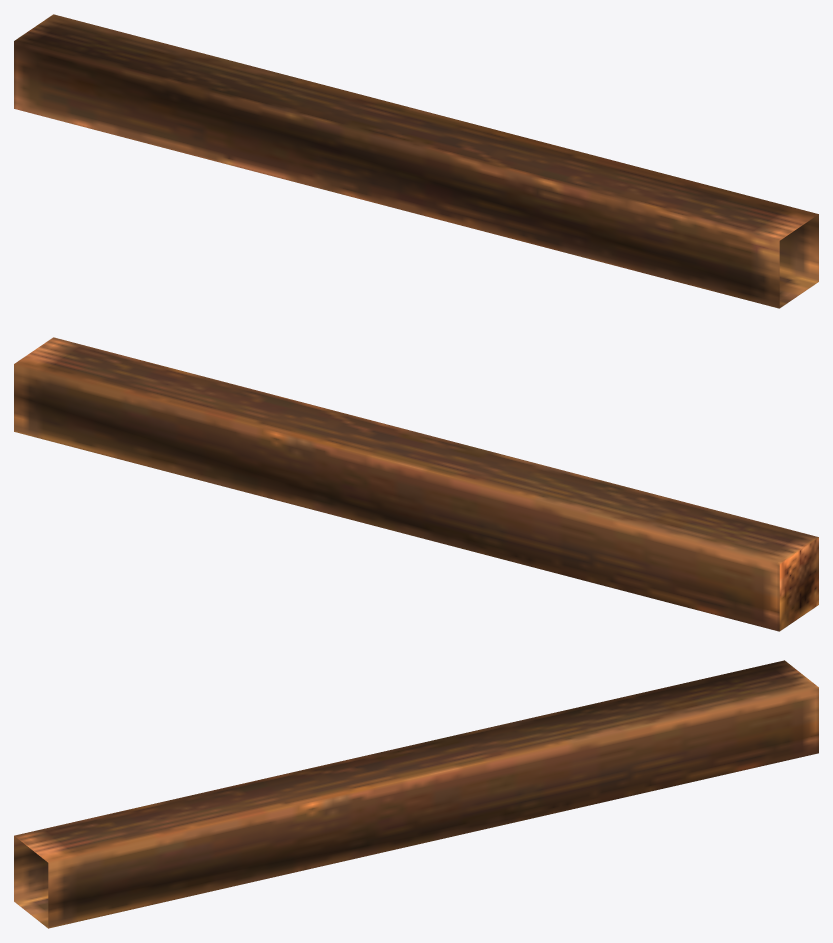
File: SWORDLIGHT20_JAILBRACE06.fbx
3 renders of one model, top to bottom at view 1: azimuth 30°, elevation 25°; view 2: azimuth 210°, elevation 25°; view 3: azimuth 270°, elevation 25°, orthographic. The views are drawn at different scales.
Parts seen in each view (by area): view 1: SWORDLIGHT20_JAILBRACE06; view 2: SWORDLIGHT20_JAILBRACE06; view 3: SWORDLIGHT20_JAILBRACE06.
Part boxes in pixels (bbox=[...]): SWORDLIGHT20_JAILBRACE06: bbox=[14, 14, 818, 308]; SWORDLIGHT20_JAILBRACE06: bbox=[14, 337, 818, 631]; SWORDLIGHT20_JAILBRACE06: bbox=[14, 660, 818, 928].
Bounding box in the file's own units: 26363 × 4000 × 44308.
Materials: 1 (1 with a texture image).
